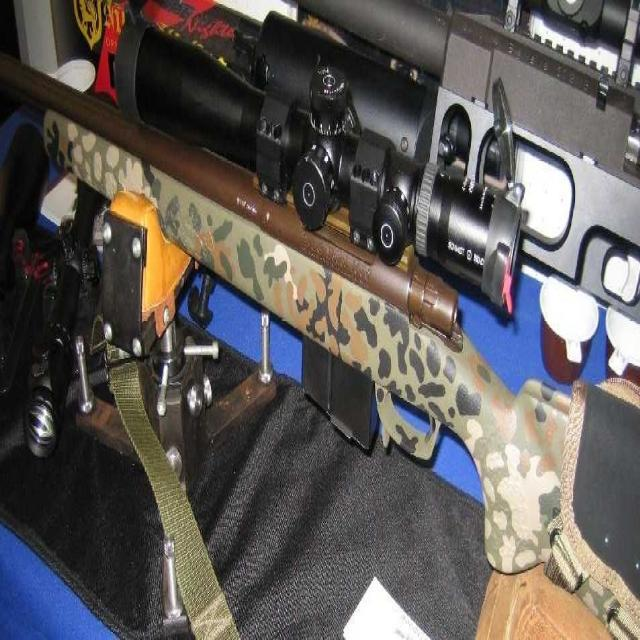weapon: (0, 63, 622, 608)
